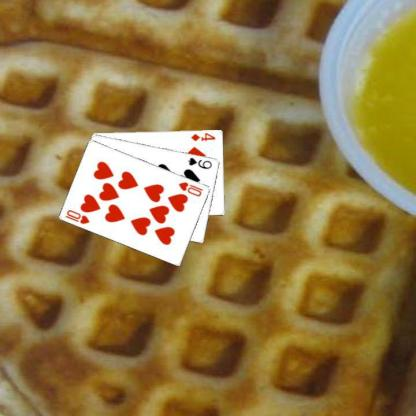10H: (176, 179, 204, 198), (63, 207, 91, 225)
4D: (189, 130, 217, 142)
9S: (186, 155, 213, 170)
